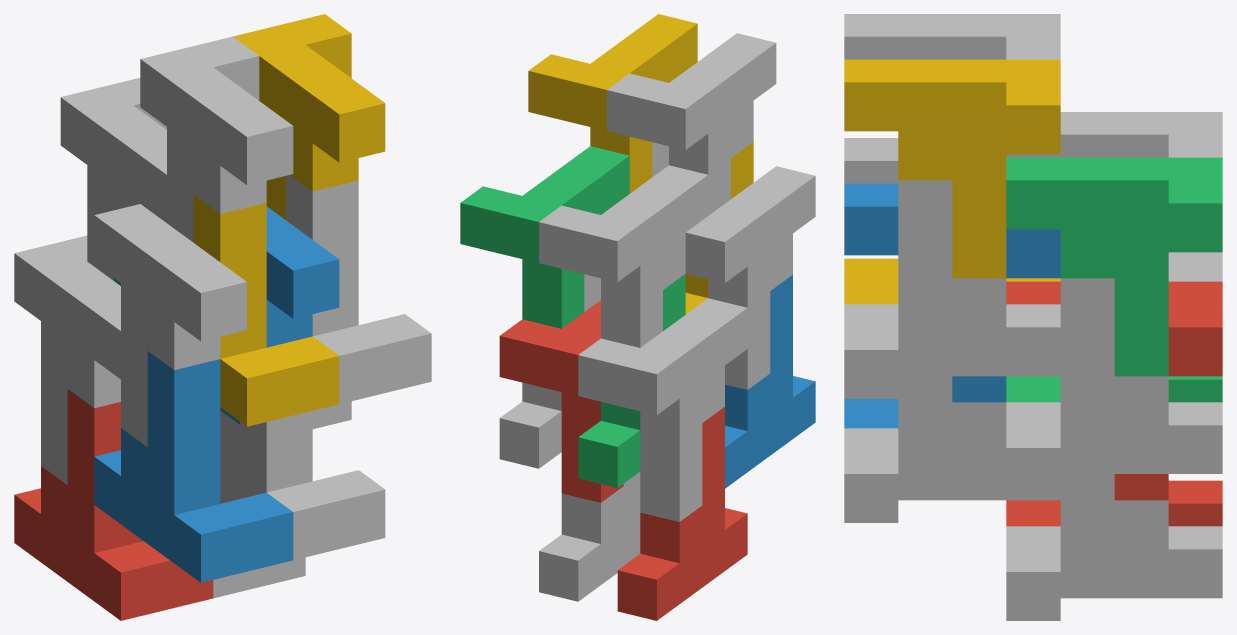
The model's file is tiling.obj.
3 views of the same model, side by side, from view 1: azimuth 30°, elevation 25°; view 2: azimuth 150°, elevation 25°; view 3: azimuth 270°, elevation 25° (orthographic). The views are drawn at different scales.
Parts seen in each view (by area): view 1: copy_1_domain_2, copy_2_domain_4, copy_2_domain_2, copy_1_domain_1, copy_2_domain_8, copy_2_domain_1, copy_1_domain_4, copy_1_domain_6, copy_1_domain_8, copy_2_domain_3, copy_2_domain_6, copy_1_domain_5 (+1 smaller); view 2: copy_2_domain_1, copy_2_domain_3, copy_2_domain_4, copy_2_domain_2, copy_2_domain_7, copy_1_domain_1, copy_2_domain_8, copy_1_domain_2, copy_2_domain_5, copy_1_domain_5, copy_1_domain_3, copy_1_domain_7 (+1 smaller); view 3: copy_2_domain_8, copy_2_domain_7, copy_1_domain_8, copy_1_domain_7, copy_1_domain_5, copy_1_domain_6, copy_2_domain_4, copy_2_domain_6, copy_2_domain_5, copy_2_domain_3, copy_1_domain_1, copy_1_domain_3 (+4 smaller).
Boxes of the visible parts, x1,y1,x2,y2 form: copy_1_domain_2: (94,351,293,582); copy_2_domain_4: (140,36,293,242); copy_2_domain_2: (94,204,246,446); copy_1_domain_1: (14,389,213,620); copy_2_domain_8: (233,14,385,219); copy_2_domain_1: (14,235,120,484); copy_1_domain_4: (193,195,339,426); copy_1_domain_6: (220,411,385,560); copy_1_domain_8: (286,175,431,403); copy_2_domain_3: (60,78,166,280); copy_2_domain_6: (220,206,339,424); copy_1_domain_5: (140,539,305,598); copy_2_domain_1: (578,298,747,521); copy_2_domain_3: (539,165,708,347); copy_2_domain_4: (607,33,776,215); copy_2_domain_2: (685,166,815,389); copy_2_domain_7: (460,146,629,328); copy_1_domain_1: (617,407,747,620); copy_2_domain_8: (528,14,697,193); copy_1_domain_2: (725,275,815,488); copy_2_domain_5: (499,300,623,502); copy_1_domain_5: (539,471,640,601); copy_1_domain_3: (578,274,685,487); copy_1_domain_7: (499,274,600,468); copy_2_domain_8: (844,59,1060,278); copy_2_domain_7: (1006,157,1222,376); copy_1_domain_8: (844,180,1060,398); copy_1_domain_7: (1006,278,1222,496); copy_1_domain_5: (1006,474,1222,620); copy_1_domain_6: (844,376,1060,522); copy_2_domain_4: (844,14,1060,59); copy_2_domain_6: (844,183,1060,402); copy_2_domain_5: (1006,281,1222,500); copy_2_domain_3: (1006,112,1222,157); copy_1_domain_1: (1006,480,1222,526); copy_1_domain_3: (1006,376,1222,402).
Size of the model in its own units: 5 by 11 by 7.
